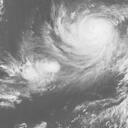cyclone: (58, 13, 121, 61)
